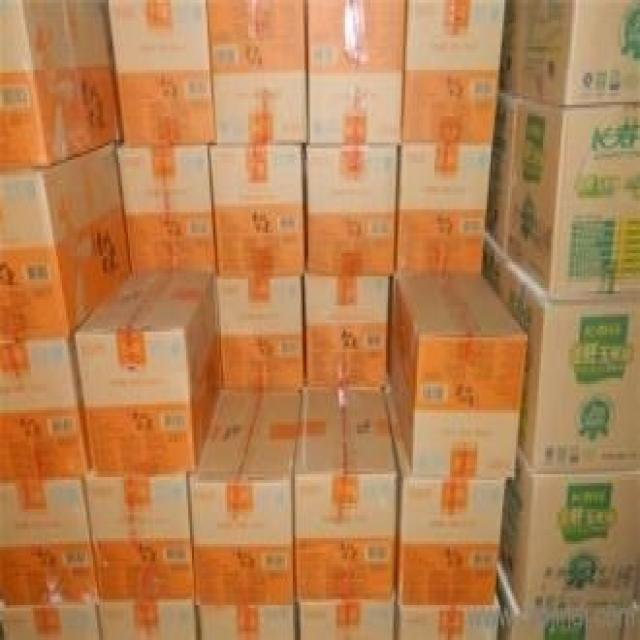box: (499, 254, 638, 468), (75, 269, 219, 474), (387, 272, 528, 479), (385, 384, 507, 603), (508, 96, 638, 294), (0, 143, 130, 337), (189, 386, 301, 603), (295, 384, 400, 596), (499, 448, 638, 608), (1, 1, 125, 167), (105, 1, 216, 145), (307, 1, 408, 148), (401, 1, 507, 140), (81, 474, 194, 602), (207, 2, 308, 144), (116, 141, 218, 276), (392, 143, 494, 276), (1, 335, 93, 479), (0, 475, 100, 605), (207, 145, 305, 276), (306, 147, 398, 278), (523, 1, 637, 105), (303, 273, 393, 389), (214, 272, 304, 387), (496, 559, 625, 636), (489, 80, 521, 254), (393, 588, 500, 634), (196, 598, 296, 637), (295, 599, 394, 637), (98, 601, 198, 637), (0, 603, 100, 637), (499, 1, 526, 94), (485, 226, 505, 290), (622, 605, 638, 635)
